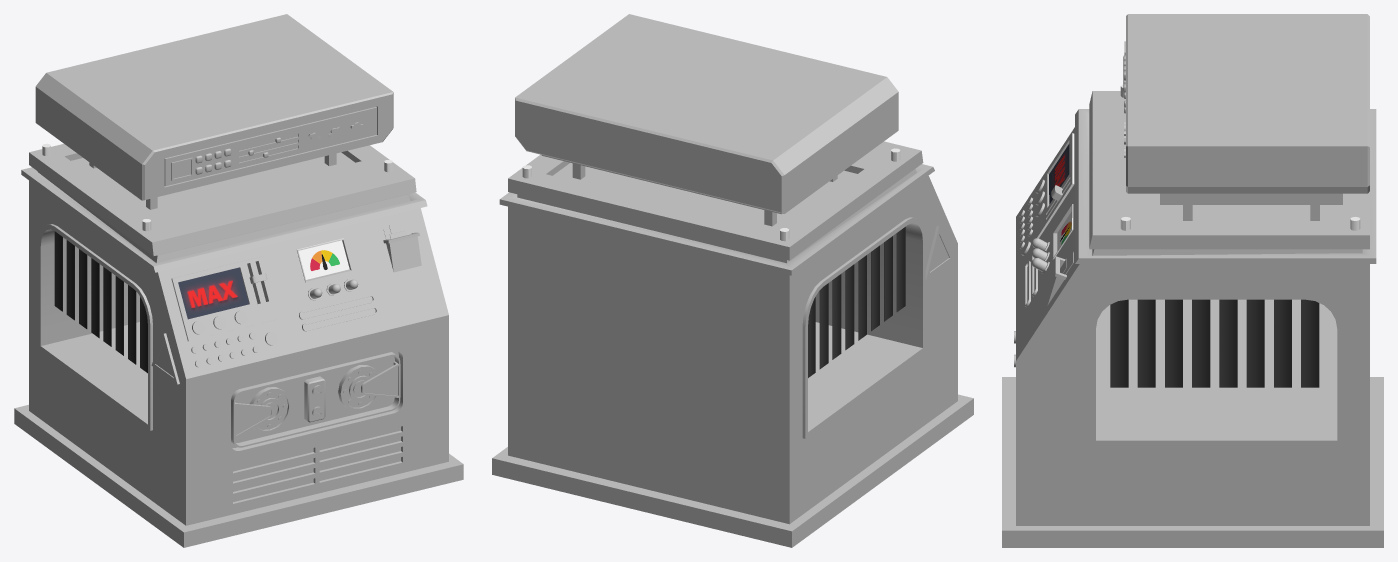
The model's file is Machn_v3_6.fbx.
3 renders of one model, left to right at view 1: azimuth 30°, elevation 25°; view 2: azimuth 150°, elevation 25°; view 3: azimuth 270°, elevation 25°, orthographic. The views are drawn at different scales.
Visible parts, largest first — view 1: Machn_v3_6, Plane_1.013, Machn_6_Rotate_2, Machn_6_Rotate; view 2: Machn_v3_6, Plane_1.013; view 3: Machn_v3_6, Plane_2.013.
Part boxes in pixels (x1=…): Machn_v3_6: x1=14, y1=14, x2=463, y2=547; Plane_1.013: x1=54, y1=231, x2=147, y2=373; Machn_6_Rotate_2: x1=338, y1=365, x2=378, y2=410; Machn_6_Rotate: x1=250, y1=387, x2=291, y2=432; Machn_v3_6: x1=492, y1=14, x2=973, y2=547; Plane_1.013: x1=808, y1=227, x2=905, y2=377; Machn_v3_6: x1=1002, y1=14, x2=1383, y2=547; Plane_2.013: x1=1110, y1=299, x2=1319, y2=387.
Bounding box in the file's own units: 263 × 315 × 276.
